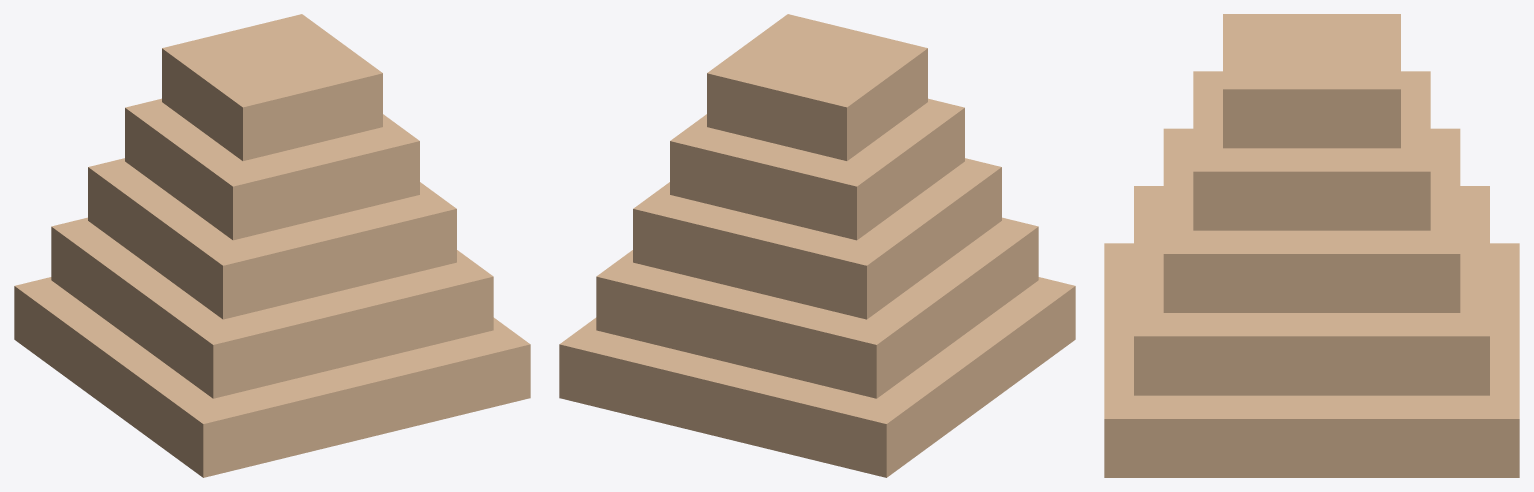
File: corten-series.glb
3 renders of one model, left to right at view 1: azimuth 30°, elevation 25°; view 2: azimuth 150°, elevation 25°; view 3: azimuth 270°, elevation 25°, orthographic. The views are drawn at different scales.
Parts seen in each view (by area): view 1: world; view 2: world; view 3: world.
Boxes of the visible parts, x1=… form: world: x1=14, y1=14, x2=530, y2=477; world: x1=559, y1=14, x2=1075, y2=477; world: x1=1104, y1=14, x2=1519, y2=477.
Bounding box in the file's own units: 2 × 1.8 × 2.
1 material, 1 textured.
